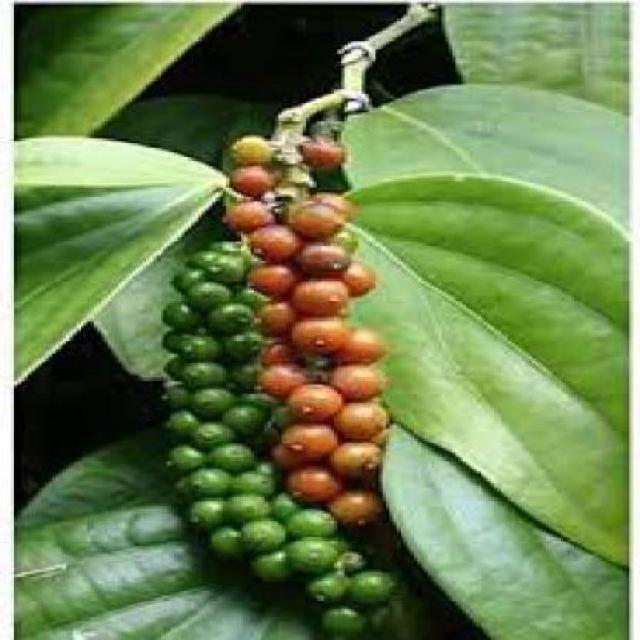RIPE: (282, 111, 373, 514)
UNRIPE: (171, 195, 282, 580)
